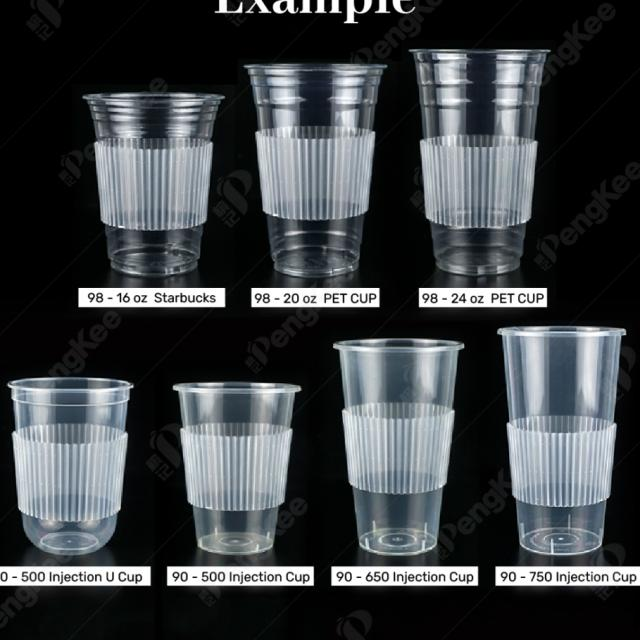Single-Use-Plastic: (412, 50, 548, 274), (245, 64, 386, 277), (499, 326, 625, 554), (334, 339, 464, 556), (84, 92, 224, 277), (9, 378, 132, 555), (174, 382, 300, 554)
